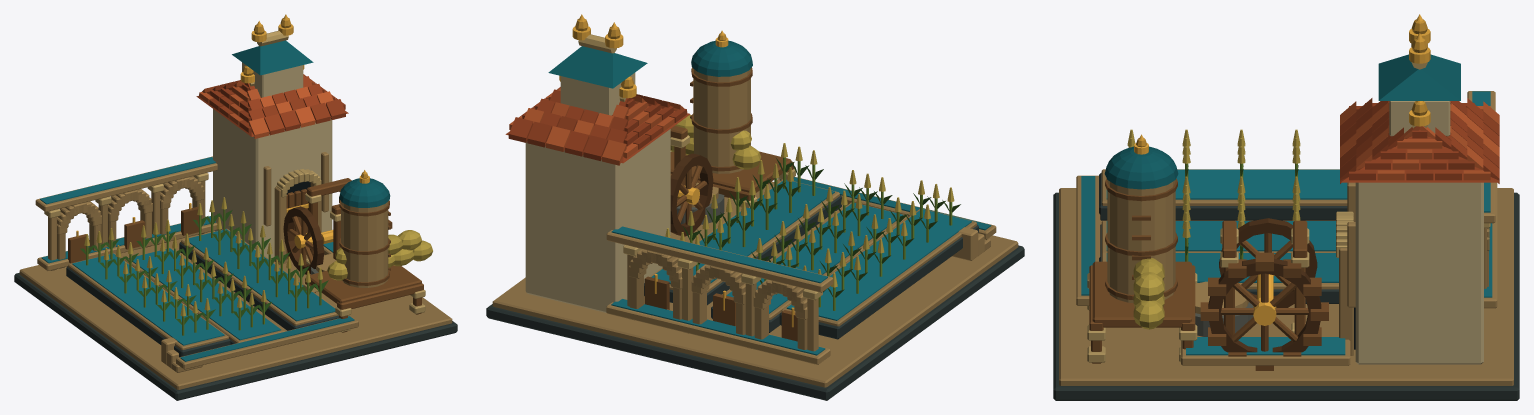
The picture shows the model from 3 angles, left to right: view 1: azimuth 30°, elevation 25°; view 2: azimuth 150°, elevation 25°; view 3: azimuth 270°, elevation 25°; orthographic projection. The views are drawn at different scales.
Parts seen in each view (by area): view 1: farm_12_structure, farm_12_metal; view 2: farm_12_structure, farm_12_metal; view 3: farm_12_structure, farm_12_metal.
Part boxes in pixels (bbox=[...]): farm_12_structure: bbox=[14, 18, 457, 400]; farm_12_metal: bbox=[76, 14, 369, 248]; farm_12_structure: bbox=[486, 19, 1024, 400]; farm_12_metal: bbox=[559, 14, 794, 327]; farm_12_structure: bbox=[1053, 19, 1519, 400]; farm_12_metal: bbox=[1134, 14, 1430, 325].
Bounding box in the file's own units: 5.6 × 4.37 × 5.46.
